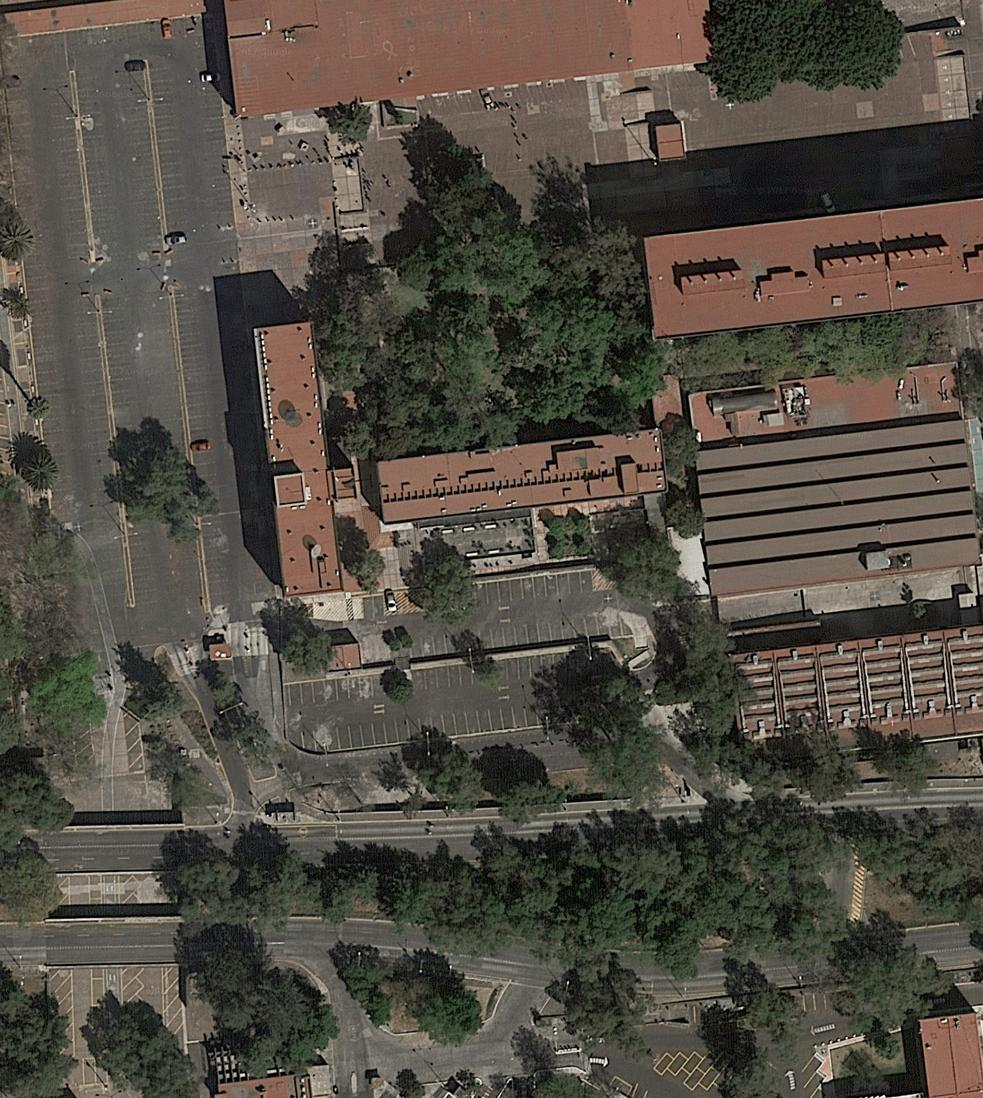parkingspot: (1, 59, 78, 517), (99, 294, 159, 606), (72, 299, 129, 609), (300, 704, 541, 755), (409, 611, 625, 665), (173, 284, 221, 490), (117, 59, 166, 256), (147, 55, 192, 249), (75, 75, 121, 259), (194, 34, 237, 227), (47, 77, 91, 260), (411, 649, 591, 692), (21, 14, 197, 57), (145, 289, 183, 423), (473, 569, 595, 607), (652, 1051, 737, 1092), (287, 674, 387, 707), (201, 521, 231, 608), (175, 539, 206, 613), (49, 969, 74, 1029), (121, 711, 144, 773), (162, 967, 183, 1031), (801, 1051, 829, 1097), (119, 875, 143, 921), (121, 968, 145, 1008), (73, 728, 95, 771), (801, 991, 839, 1012), (82, 1057, 109, 1086), (91, 978, 105, 1008)
